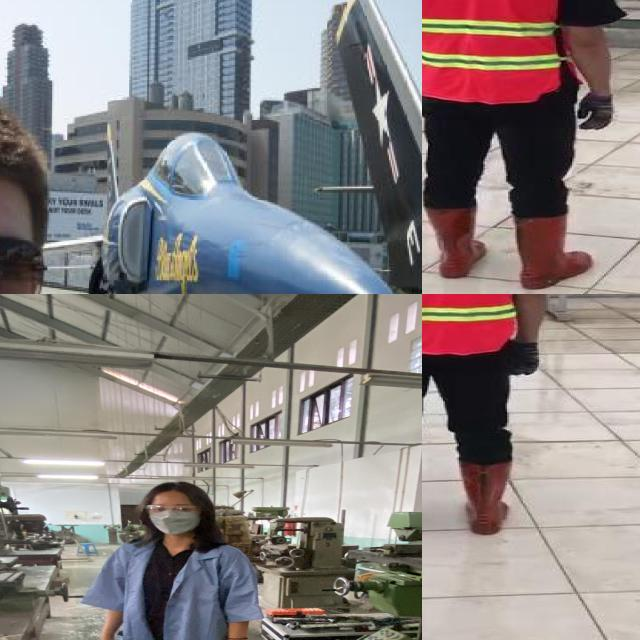boots: (508, 213, 595, 291), (456, 459, 518, 536), (422, 208, 488, 278)
face_mask: (141, 501, 206, 536)
glasses: (0, 212, 42, 294), (140, 502, 207, 518)
hand_glove: (507, 339, 550, 377), (578, 92, 616, 133)
head_nohelmet: (0, 95, 51, 197), (142, 478, 213, 502)
person: (422, 0, 635, 294), (422, 294, 562, 540), (77, 478, 274, 640)
vest: (422, 0, 568, 104), (422, 294, 526, 350)
